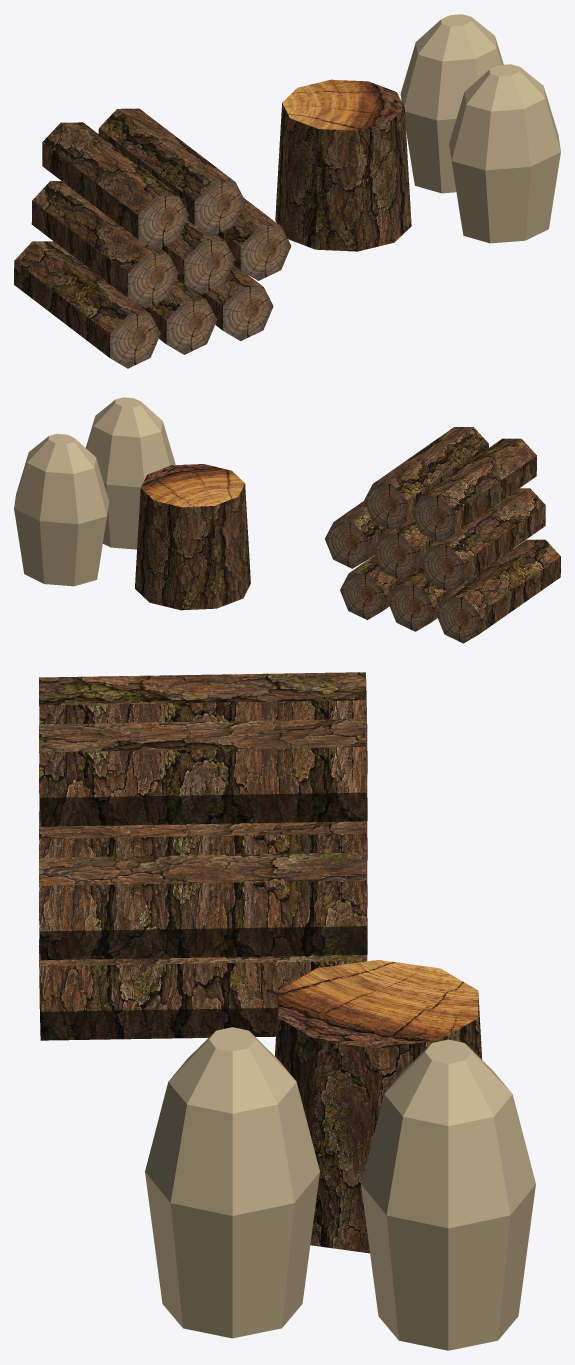
The model's file is trail03-props.glb.
3 renders of one model, top to bottom at view 1: azimuth 30°, elevation 25°; view 2: azimuth 150°, elevation 25°; view 3: azimuth 270°, elevation 25°, orthographic. The views are drawn at different scales.
Parts seen in each view (by area): view 1: woodpile, sack0, stump, sack1, stump_top; view 2: woodpile, sack1, stump, sack0, stump_top; view 3: woodpile, sack1, sack0, stump, stump_top.
Boxes of the visible parts, left/top/right/bottom form: woodpile: left=14, top=108, right=291, bottom=368; sack0: left=449, top=64, right=560, bottom=243; stump: left=275, top=103, right=411, bottom=251; sack1: left=400, top=14, right=503, bottom=193; stump_top: left=282, top=79, right=404, bottom=130; woodpile: left=325, top=427, right=560, bottom=643; sack1: left=14, top=433, right=109, bottom=586; stump: left=135, top=484, right=250, bottom=610; sack0: left=85, top=397, right=175, bottom=549; stump_top: left=141, top=464, right=244, bottom=507; woodpile: left=39, top=672, right=367, bottom=1040; sack1: left=361, top=1039, right=535, bottom=1350; sack0: left=145, top=1027, right=319, bottom=1338; stump: left=275, top=991, right=482, bottom=1253; stump_top: left=278, top=960, right=478, bottom=1048.
Bounding box in the file's own units: 1.75 × 0.5577 × 0.8516.
Materials: 4 (3 with a texture image).
